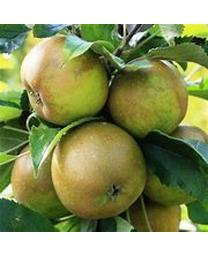apple: (51, 120, 146, 220), (21, 35, 110, 125), (107, 58, 188, 139)
